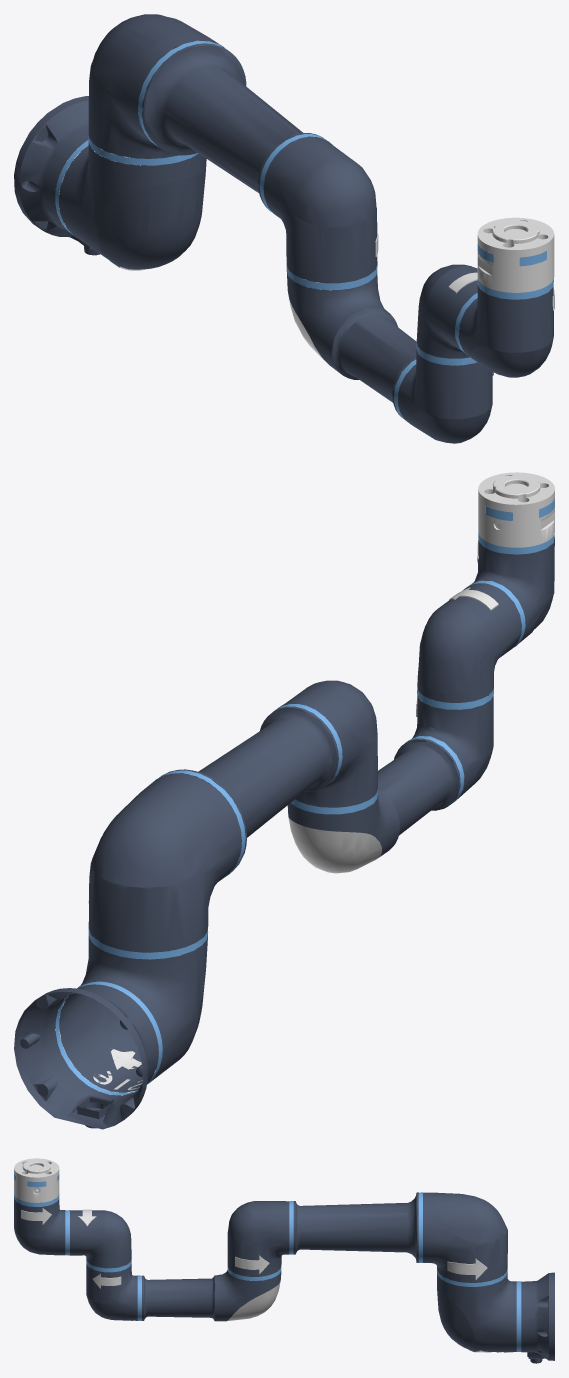
Rendered from 16kg-6axis-model-v2.glb.
3 views of the same model, one above another, from view 1: azimuth 30°, elevation 25°; view 2: azimuth 150°, elevation 25°; view 3: azimuth 270°, elevation 25° (orthographic). The views are drawn at different scales.
Visible parts, largest first — view 1: Link2, Link3, Link1, Link5, Base, Link6, Link4; view 2: Link2, Link3, Link1, Base, Link4, Link6, Link5; view 3: Link2, Link3, Link1, Link4, Base, Link5, Link6, arrow2, arrow3, arrow6.
Boxes of the visible parts, left/top/right/bottom form: Link2: left=88, top=14, right=377, bottom=290; Link3: left=286, top=271, right=492, bottom=443; Link1: left=59, top=116, right=206, bottom=269; Link5: left=458, top=265, right=553, bottom=377; Base: left=14, top=96, right=146, bottom=255; Link6: left=477, top=217, right=554, bottom=292; Link4: left=416, top=264, right=510, bottom=358; Link2: left=88, top=680, right=377, bottom=959; Link3: left=287, top=680, right=493, bottom=873; Link1: left=59, top=931, right=207, bottom=1092; Base: left=14, top=981, right=162, bottom=1129; Link4: left=417, top=580, right=525, bottom=702; Link6: left=478, top=472, right=554, bottom=547; Link5: left=472, top=533, right=554, bottom=646; Link2: left=227, top=1192, right=507, bottom=1286; Link3: left=86, top=1259, right=281, bottom=1321; Link1: left=437, top=1272, right=516, bottom=1351; Link4: left=65, top=1210, right=131, bottom=1268; Base: left=516, top=1272, right=554, bottom=1363; Link5: left=14, top=1185, right=65, bottom=1255; Link6: left=14, top=1158, right=59, bottom=1202; arrow2: left=447, top=1258, right=487, bottom=1279; arrow3: left=235, top=1255, right=269, bottom=1273; arrow6: left=21, top=1208, right=51, bottom=1224.
Size of the model in its own units: 0.1983 by 0.4857 by 1.22.
